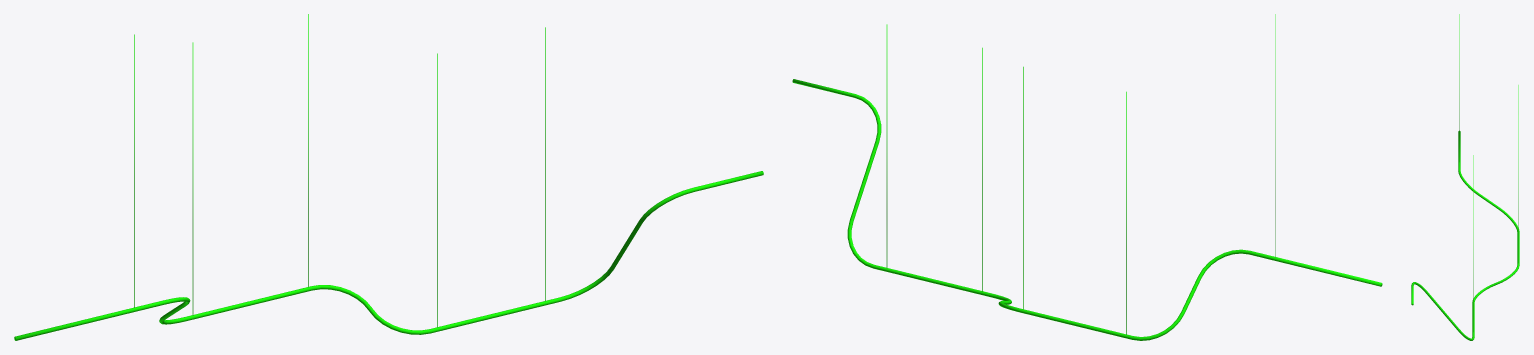
The model's file is main_Stage1Rail001.fbx.
3 views of the same model, side by side, from view 1: azimuth 30°, elevation 25°; view 2: azimuth 150°, elevation 25°; view 3: azimuth 270°, elevation 25° (orthographic). The views are drawn at different scales.
Parts seen in each view (by area): view 1: main_Stage1Rail001; view 2: main_Stage1Rail001; view 3: main_Stage1Rail001.
Boxes of the visible parts, x1=… form: main_Stage1Rail001: x1=14, y1=14, x2=763, y2=340; main_Stage1Rail001: x1=792, y1=14, x2=1382, y2=340; main_Stage1Rail001: x1=1411, y1=14, x2=1519, y2=340.
Bounding box in the file's own units: 182 × 94.92 × 44.81.
